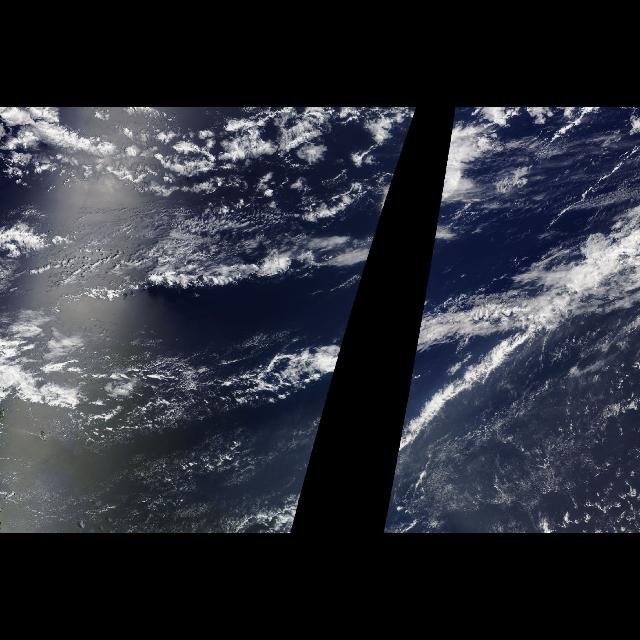Fish: (2, 300, 356, 450)
Sugar: (395, 388, 637, 528), (9, 435, 307, 505)
